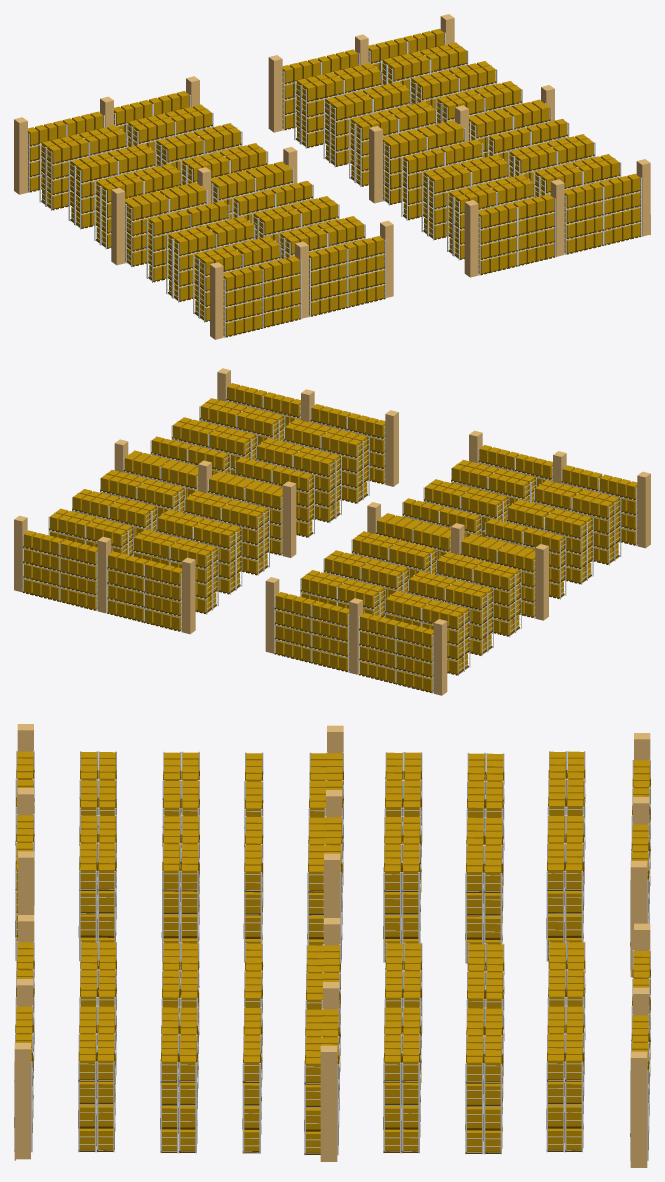
File: Alexander - 1.glb
3 renders of one model, top to bottom at view 1: azimuth 30°, elevation 25°; view 2: azimuth 150°, elevation 25°; view 3: azimuth 270°, elevation 25°, orthographic. The views are drawn at different scales.
Parts seen in each view (by area): view 1: G-Object.010, G-Object.013, G-Object.017, G-Object.005, G-Object.001, G-Object.015, G-Object.003, G-Object.002, G-Object, G-Object.004; view 2: G-Object.015, G-Object.005, G-Object.001, G-Object.013, G-Object.017, G-Object.010, G-Object.016, G-Object.014, G-Object.012, G-Object.011; view 3: G-Object.007, G-Object.011, G-Object.002, G-Object.016, G-Object.008, G-Object.004.
Part boxes in pixels (box(x1,y1,x2,y2)): G-Object.010: box(111, 187, 125, 265); G-Object.013: box(268, 55, 282, 132); G-Object.017: box(464, 200, 478, 277); G-Object.005: box(369, 126, 382, 203); G-Object.001: box(210, 262, 223, 339); G-Object.015: box(14, 117, 27, 194); G-Object.003: box(551, 179, 564, 256); G-Object.002: box(636, 159, 650, 236); G-Object: box(295, 241, 308, 318); G-Object.004: box(380, 220, 393, 297); G-Object.015: box(433, 619, 447, 695); G-Object.005: box(282, 481, 296, 557); G-Object.001: box(637, 471, 650, 548); G-Object.013: box(182, 557, 195, 634); G-Object.017: box(385, 410, 398, 486); G-Object.010: box(535, 544, 548, 620); G-Object.016: box(265, 577, 279, 653); G-Object.014: box(349, 598, 362, 674); G-Object.012: box(97, 536, 111, 613); G-Object.011: box(14, 515, 27, 592); G-Object.007: box(320, 1045, 337, 1161); G-Object.011: box(630, 1051, 647, 1167); G-Object.002: box(14, 1043, 30, 1159); G-Object.016: box(630, 861, 647, 977); G-Object.008: box(324, 853, 340, 917); G-Object.004: box(18, 851, 34, 914).
Bounding box in the file's own units: 51.15 × 8.36 × 41.88.
